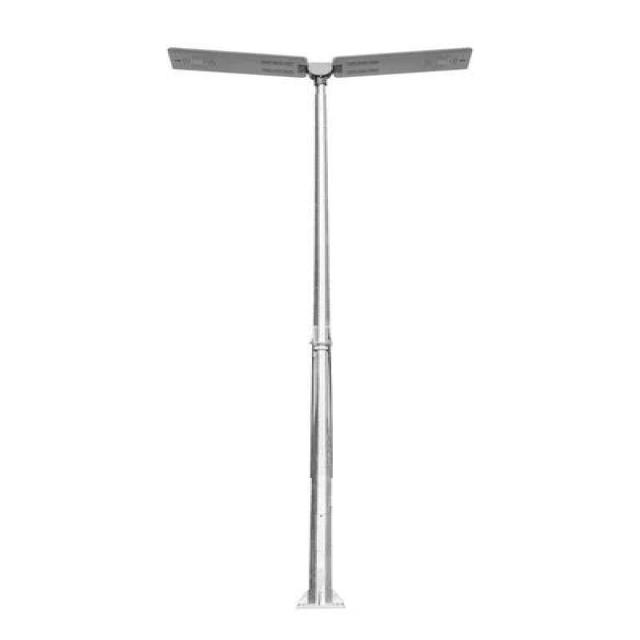Pole: (171, 47, 474, 608)
